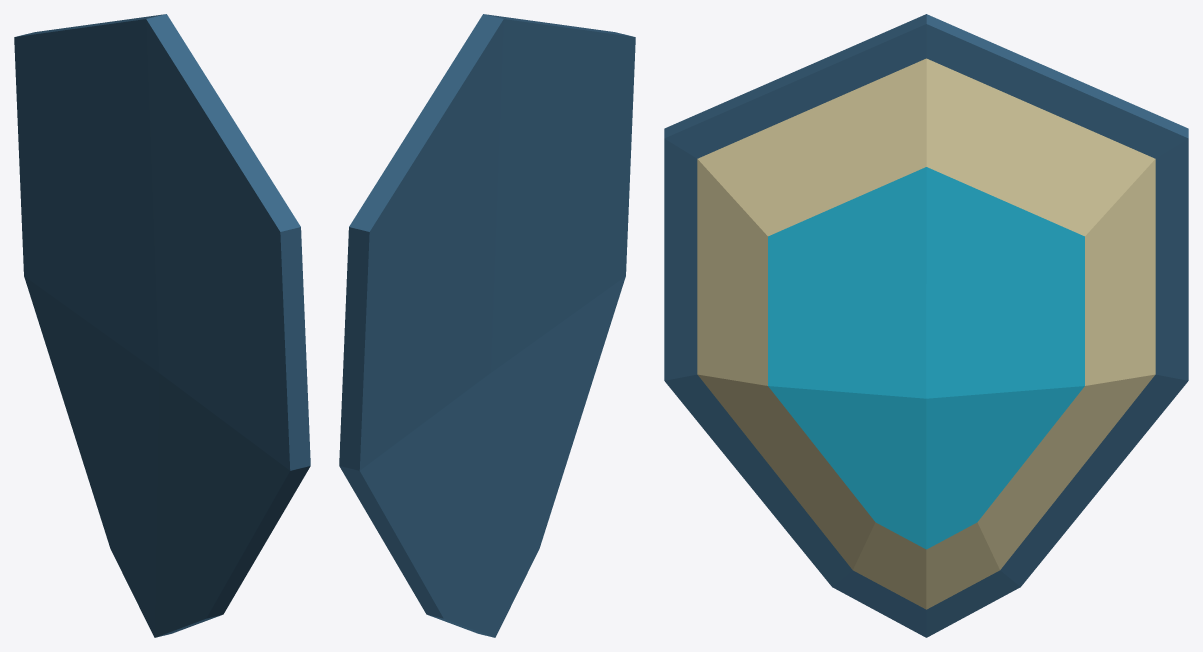
File: escudoFinal.fbx
3 views of the same model, side by side, from view 1: azimuth 30°, elevation 25°; view 2: azimuth 150°, elevation 25°; view 3: azimuth 270°, elevation 25° (orthographic).
Parts seen in each view (by area): view 1: Cube; view 2: Cube; view 3: Cube.
Boxes of the visible parts, x1,y1,x2,y2 form: Cube: [14, 14, 310, 637]; Cube: [339, 14, 635, 637]; Cube: [664, 14, 1188, 637].
Size of the model in its own units: 29.81 by 257 by 200.
